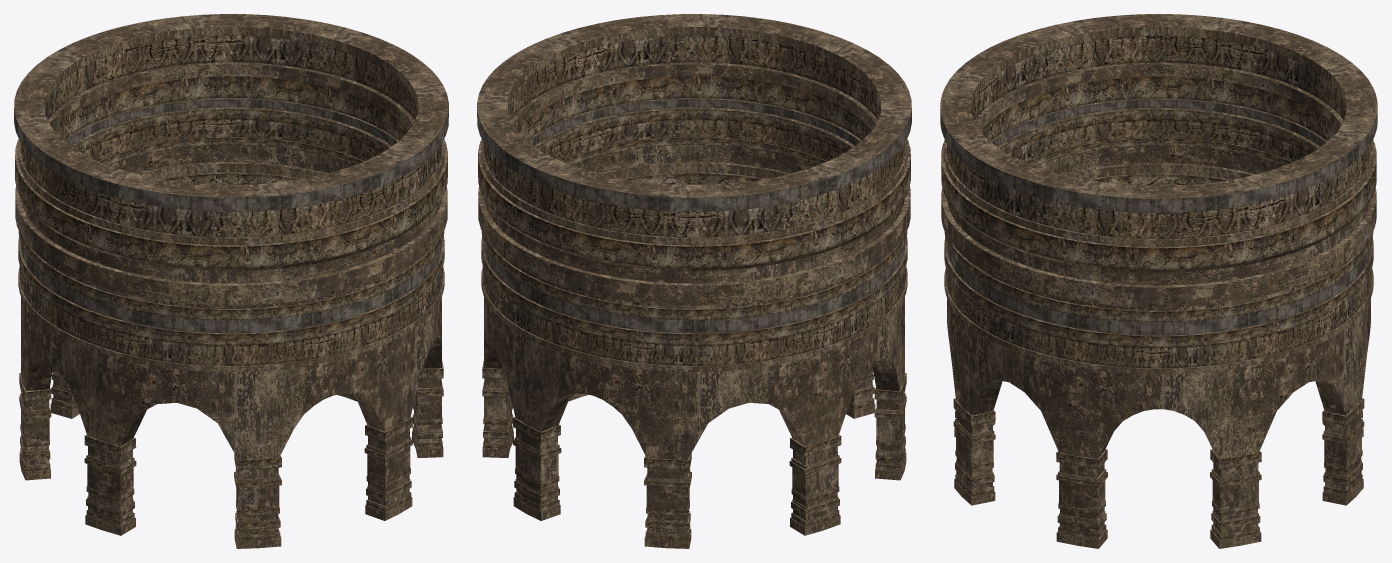
The model's file is materials_5_wall_cylinder_7.fbx.
The picture shows the model from 3 angles, left to right: view 1: azimuth 30°, elevation 25°; view 2: azimuth 150°, elevation 25°; view 3: azimuth 270°, elevation 25°; orthographic projection.
Visible parts, largest first — view 1: materials_5_wall_cylinder_7; view 2: materials_5_wall_cylinder_7; view 3: materials_5_wall_cylinder_7.
Part boxes in pixels (bbox=[...]): materials_5_wall_cylinder_7: bbox=[14, 14, 448, 548]; materials_5_wall_cylinder_7: bbox=[477, 14, 911, 548]; materials_5_wall_cylinder_7: bbox=[940, 14, 1377, 548].
Size of the model in its own units: 762 by 685 by 762.
